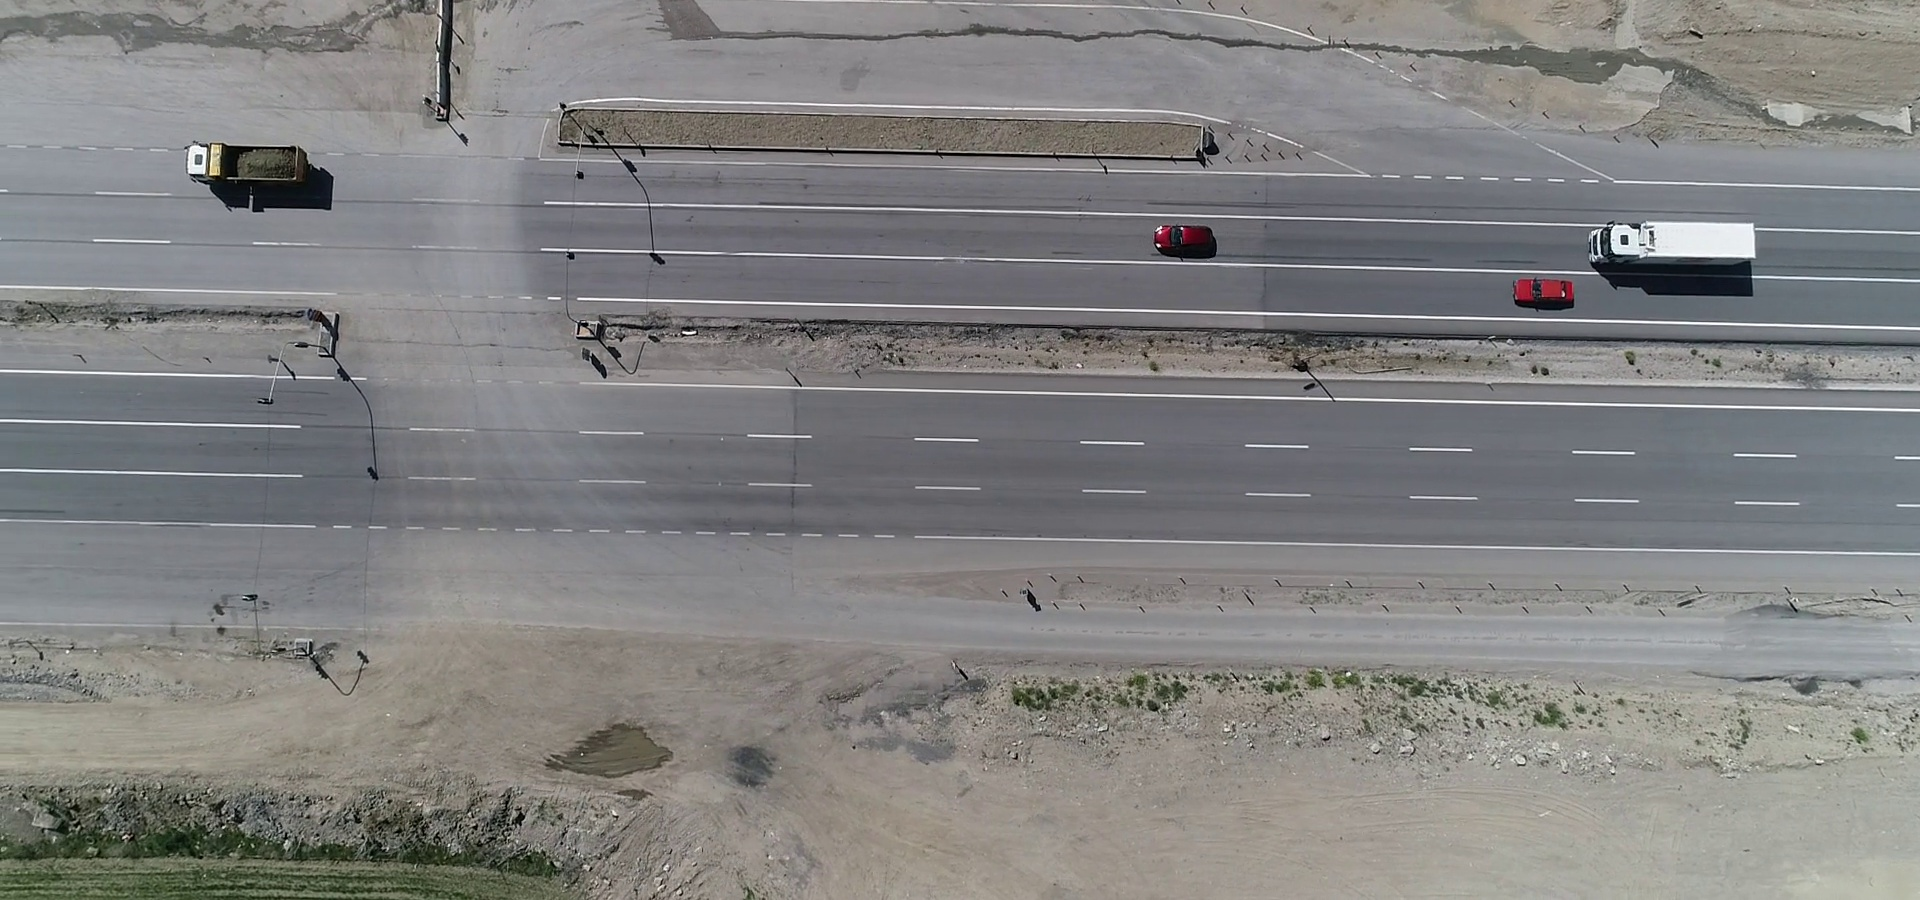arac: (1580, 216, 1783, 276), (180, 129, 339, 201), (1142, 216, 1229, 264), (1509, 267, 1584, 306)
